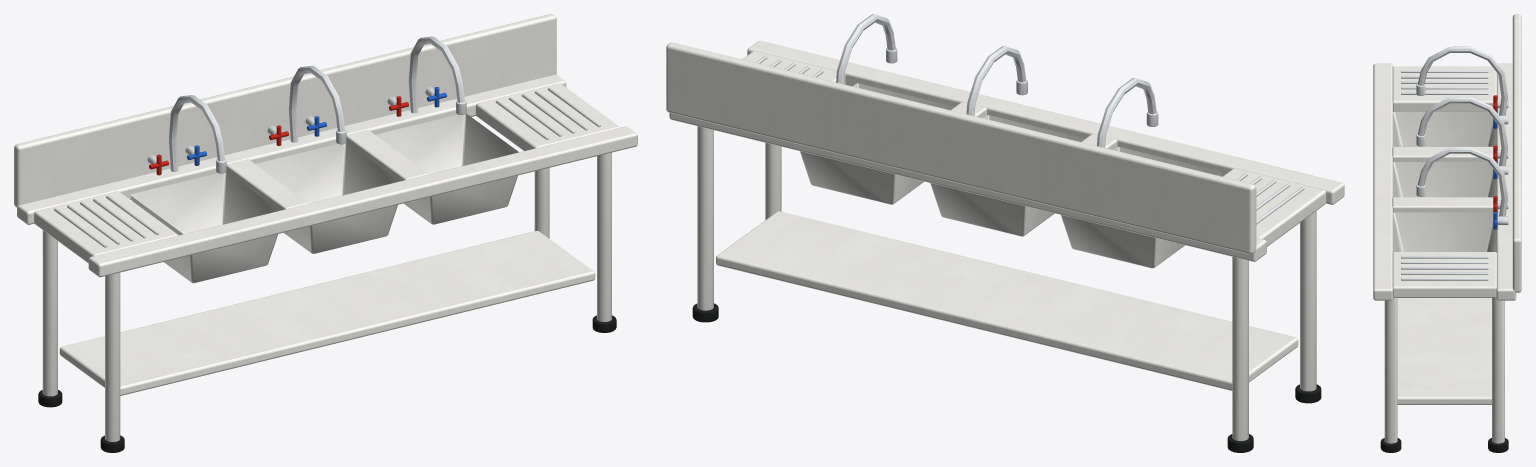
Rendered from diner_commercial_sink.glb.
3 views of the same model, side by side, from view 1: azimuth 30°, elevation 25°; view 2: azimuth 150°, elevation 25°; view 3: azimuth 270°, elevation 25° (orthographic). The views are drawn at different scales.
Parts seen in each view (by area): view 1: diner_commercial_sink_ss_stainless_pbr, diner_commercial_sink_ss_polished_chrome, diner_commercial_sink_ss_black_rubber; view 2: diner_commercial_sink_ss_stainless_pbr, diner_commercial_sink_ss_polished_chrome, diner_commercial_sink_ss_black_rubber; view 3: diner_commercial_sink_ss_stainless_pbr, diner_commercial_sink_ss_polished_chrome, diner_commercial_sink_ss_black_rubber, diner_commercial_sink_ss_indicator_red, diner_commercial_sink_ss_indicator_blue.
Part boxes in pixels (x1,y1,x2,y2): diner_commercial_sink_ss_stainless_pbr: (14, 14, 637, 441); diner_commercial_sink_ss_polished_chrome: (54, 36, 600, 247); diner_commercial_sink_ss_black_rubber: (38, 315, 616, 452); diner_commercial_sink_ss_stainless_pbr: (666, 40, 1344, 440); diner_commercial_sink_ss_polished_chrome: (756, 14, 1304, 224); diner_commercial_sink_ss_black_rubber: (692, 303, 1321, 452); diner_commercial_sink_ss_stainless_pbr: (1373, 14, 1521, 443); diner_commercial_sink_ss_polished_chrome: (1401, 46, 1508, 280); diner_commercial_sink_ss_black_rubber: (1380, 438, 1508, 452); diner_commercial_sink_ss_indicator_red: (1493, 95, 1497, 212); diner_commercial_sink_ss_indicator_blue: (1493, 111, 1497, 229).
Size of the model in its own units: 2.7 by 1.38 by 0.7475.
Materials: 5 (1 with a texture image).
